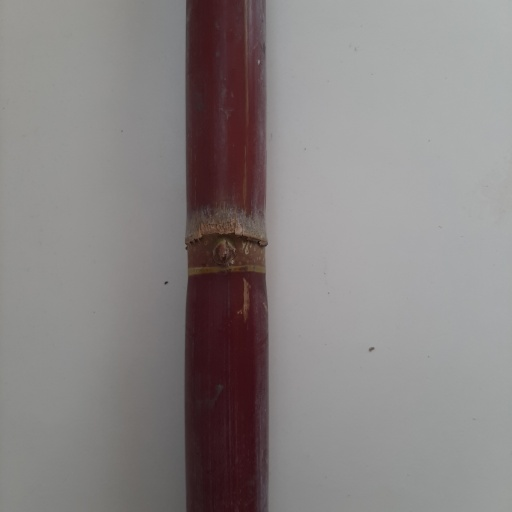Bud: (212, 237, 236, 266)
